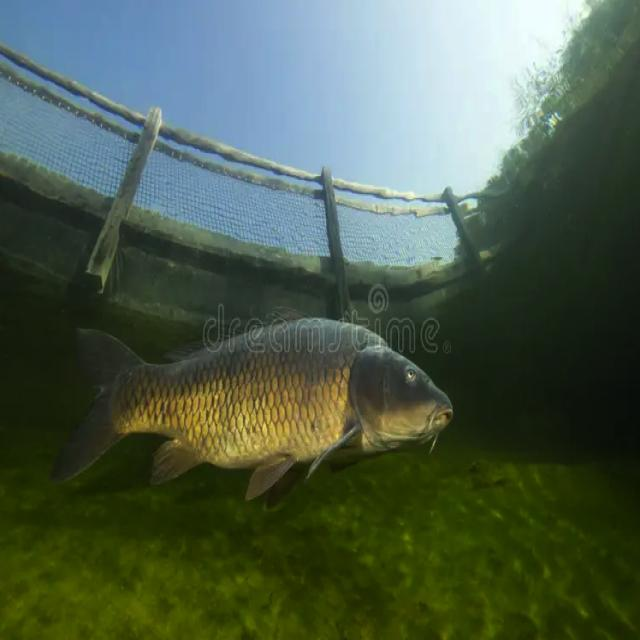Common carp: (53, 303, 454, 512)
